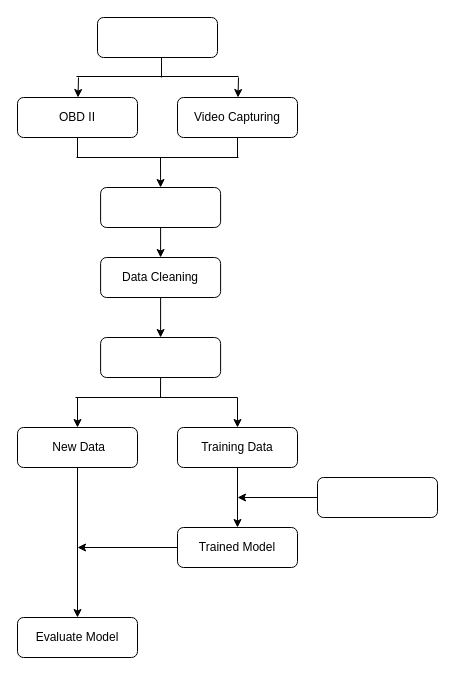
This 455x675 diagram has some shape labels left out. Each missing label, with the box of its shape:
Data Collection: (96, 16, 218, 58)
Dataset: (100, 186, 221, 228)
Feature Selection: (100, 336, 221, 378)
Learning Algorithm: (316, 476, 438, 518)
